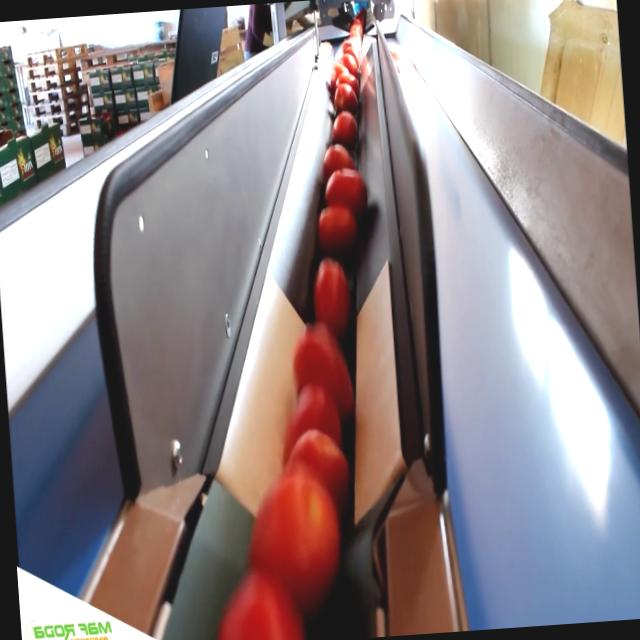Tomato: (238, 468, 341, 576), (210, 570, 298, 640), (271, 392, 338, 460), (290, 333, 354, 390), (286, 426, 348, 481), (312, 258, 352, 328), (320, 170, 368, 204), (316, 204, 354, 244), (321, 141, 355, 169), (329, 109, 358, 138), (332, 81, 357, 110), (337, 71, 358, 91), (328, 63, 348, 79)
